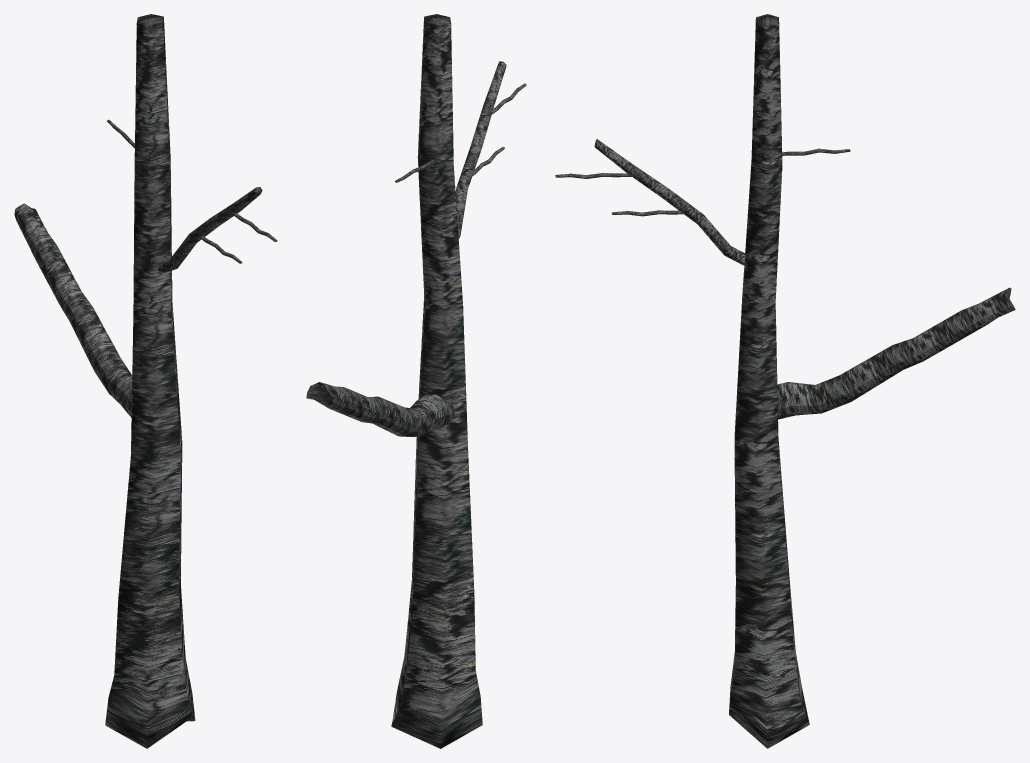
The model's file is oak_treeDebris.fbx.
3 renders of one model, left to right at view 1: azimuth 30°, elevation 25°; view 2: azimuth 150°, elevation 25°; view 3: azimuth 270°, elevation 25°, orthographic.
Parts seen in each view (by area): view 1: polySurface18; view 2: polySurface18; view 3: polySurface18.
Part boxes in pixels (x1,y1,x2,y2): polySurface18: [14, 14, 277, 748]; polySurface18: [306, 14, 526, 748]; polySurface18: [555, 14, 1015, 748].
Bounding box in the file's own units: 1.9 × 14.3 × 8.45.
